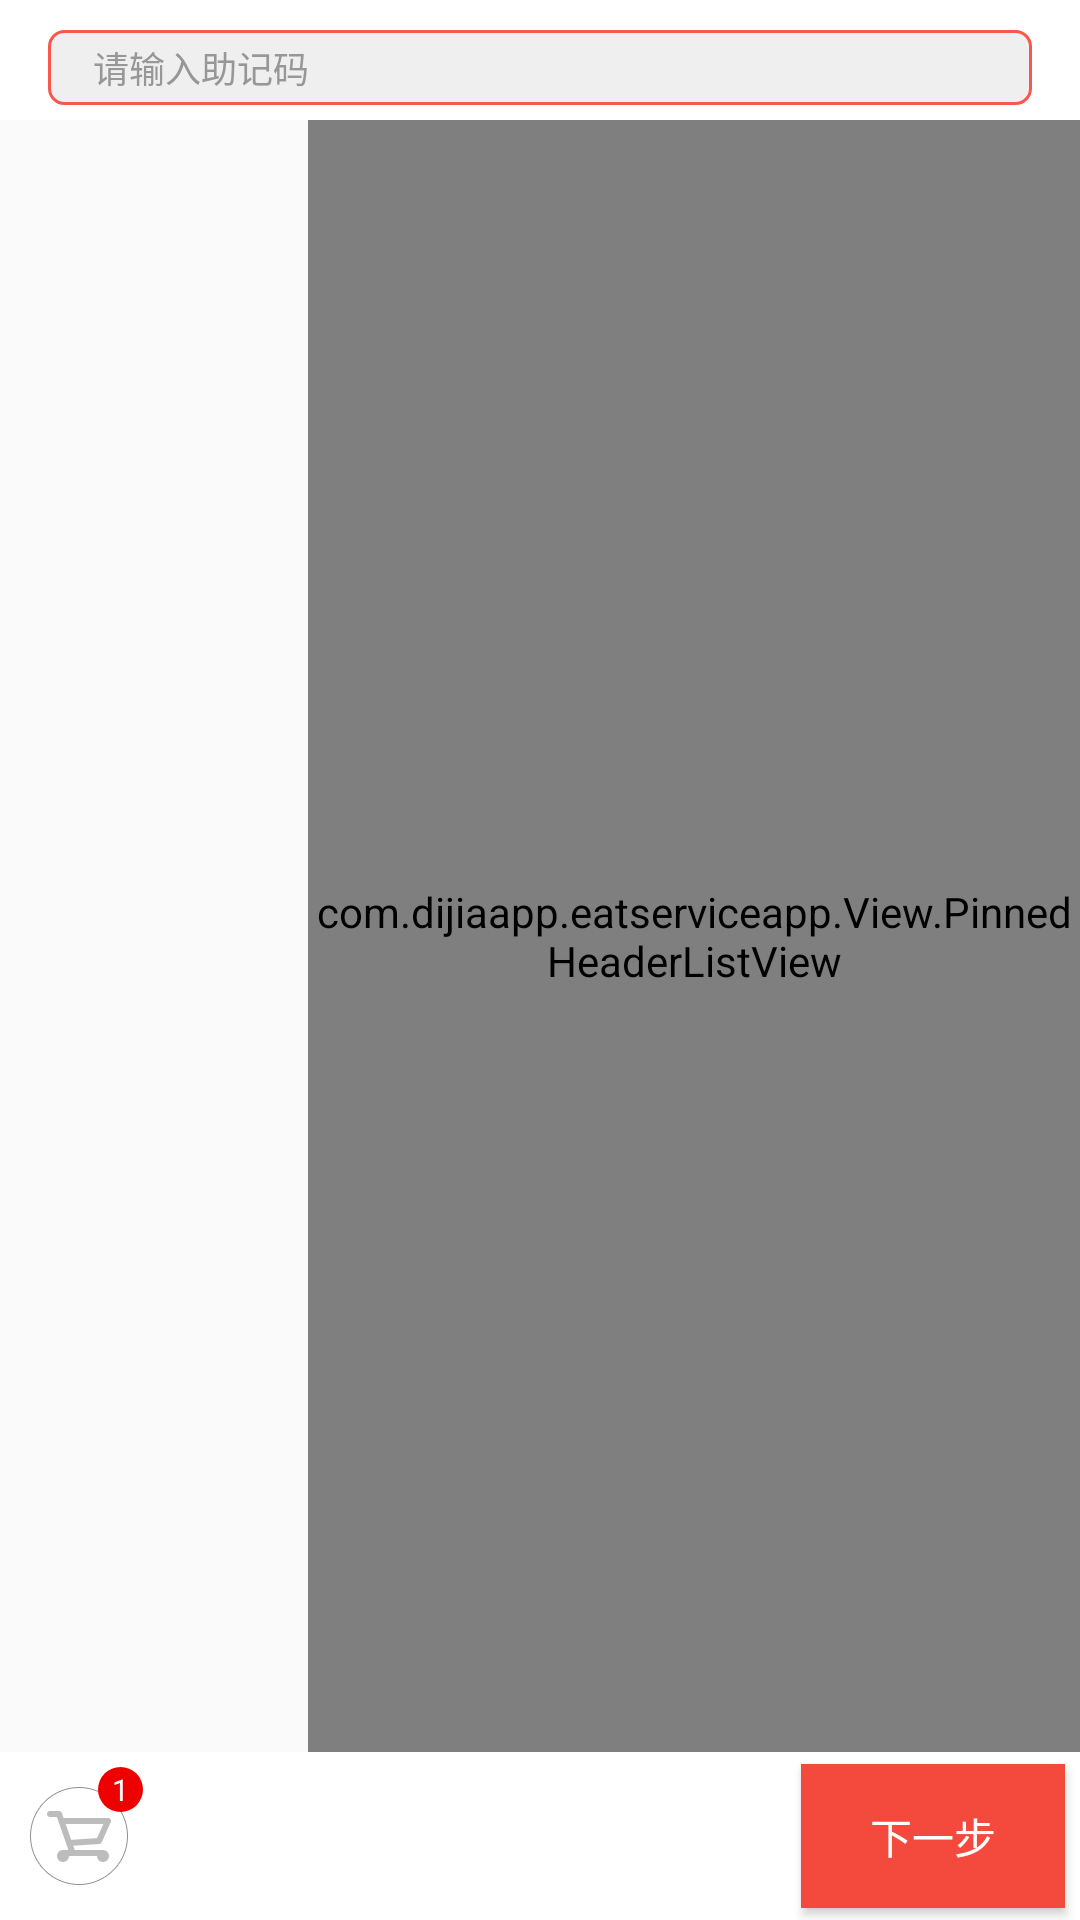

Named icons in this screenshot (1080 × 1920) and their bounding boxes, bbox=(x1, y1, x2, y2):
shopping: bbox=(30, 1767, 143, 1885)
